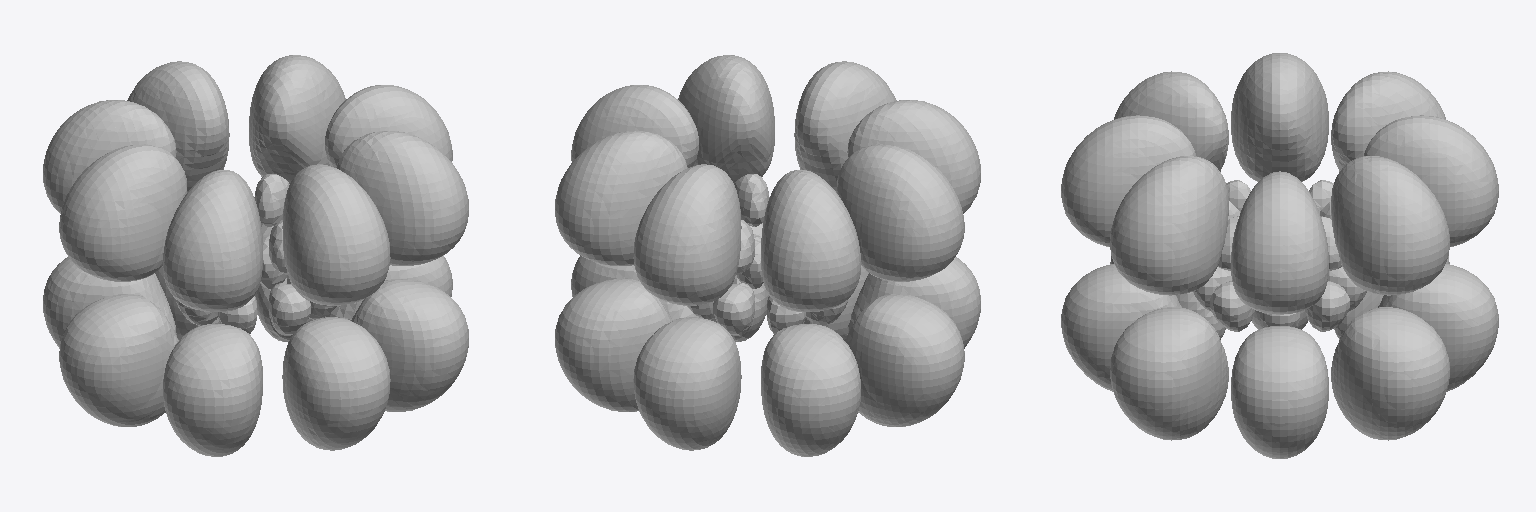
Rendered from orb_n=7_ l=5 _m=4.obj.
3 views of the same model, side by side, from view 1: azimuth 30°, elevation 25°; view 2: azimuth 150°, elevation 25°; view 3: azimuth 270°, elevation 25° (orthographic).
Visible parts, largest first — view 1: orb_n=7__l=5__m=4; view 2: orb_n=7__l=5__m=4; view 3: orb_n=7__l=5__m=4.
Part boxes in pixels (x1,y1,x2,y2): orb_n=7__l=5__m=4: (43, 55, 468, 456); orb_n=7__l=5__m=4: (555, 55, 980, 456); orb_n=7__l=5__m=4: (1061, 53, 1498, 458).
Bounding box in the file's own units: 175 × 122 × 175.